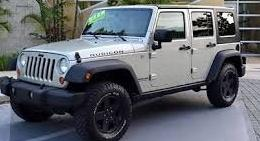SUV: (1, 8, 246, 141)
